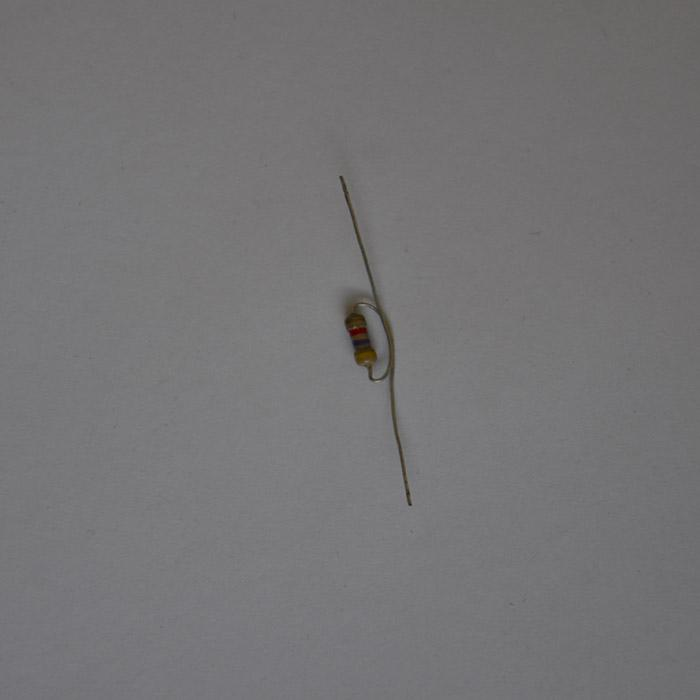resistor: (344, 310, 376, 368)
